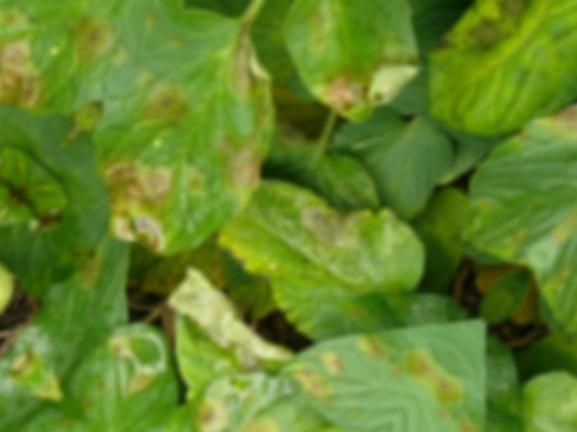Tomato Early blight leaf: (42, 0, 322, 281), (202, 132, 467, 390), (392, 3, 577, 198), (425, 66, 577, 289), (240, 0, 458, 140), (134, 336, 353, 432)
